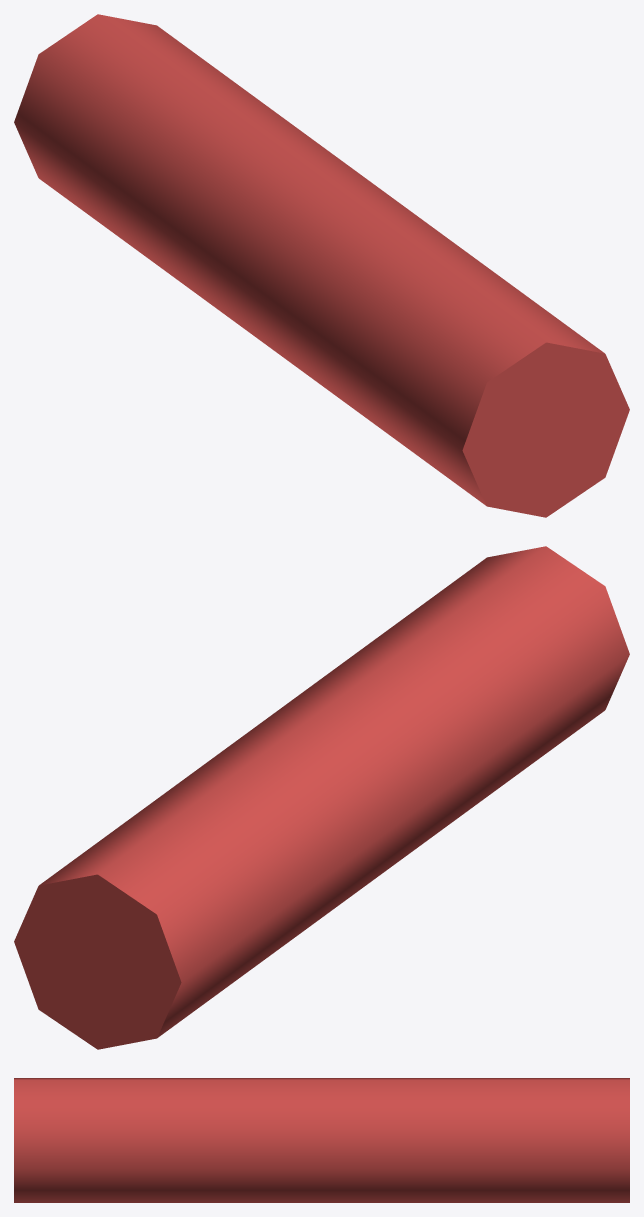
File: support-small-horizontal.glb
The picture shows the model from 3 angles, top to bottom: view 1: azimuth 30°, elevation 25°; view 2: azimuth 150°, elevation 25°; view 3: azimuth 270°, elevation 25°; orthographic projection. The views are drawn at different scales.
Visible parts, largest first — view 1: support-small-horizontal; view 2: support-small-horizontal; view 3: support-small-horizontal.
Part boxes in pixels (x1,y1,x2,y2): support-small-horizontal: (14, 14, 629, 517); support-small-horizontal: (14, 546, 629, 1049); support-small-horizontal: (14, 1078, 629, 1202).
Size of the model in its own units: 0.2157 by 0.2157 by 1.
Materials: 1 (1 with a texture image).
